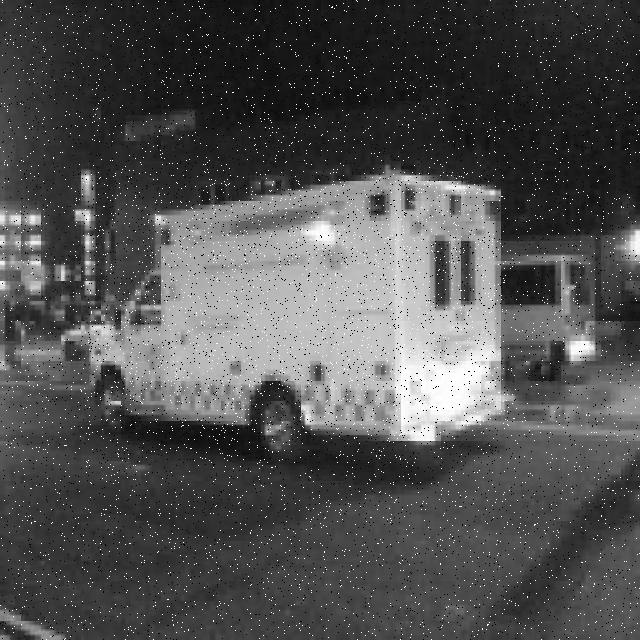Ambulance: (88, 172, 508, 463)
